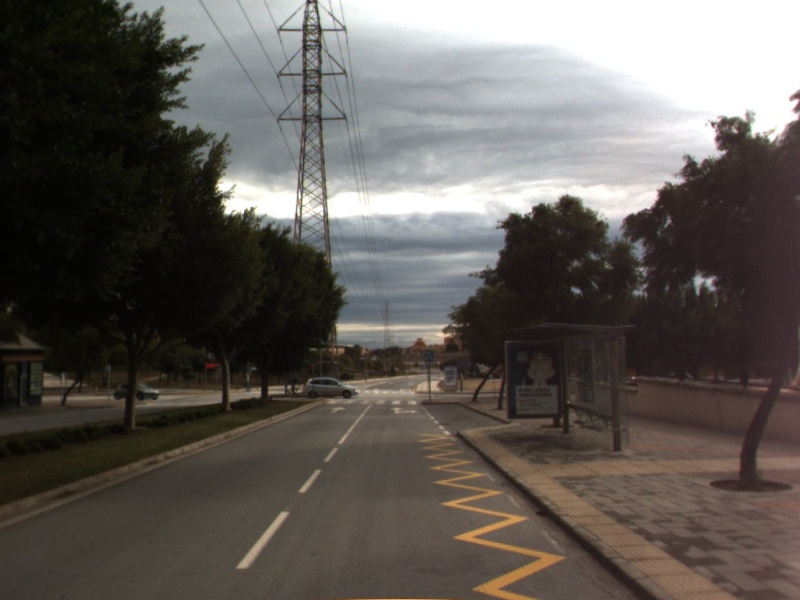STRAIGHT: (327, 404, 347, 415)
STRAIGHT_RIGHT: (388, 405, 419, 416)
